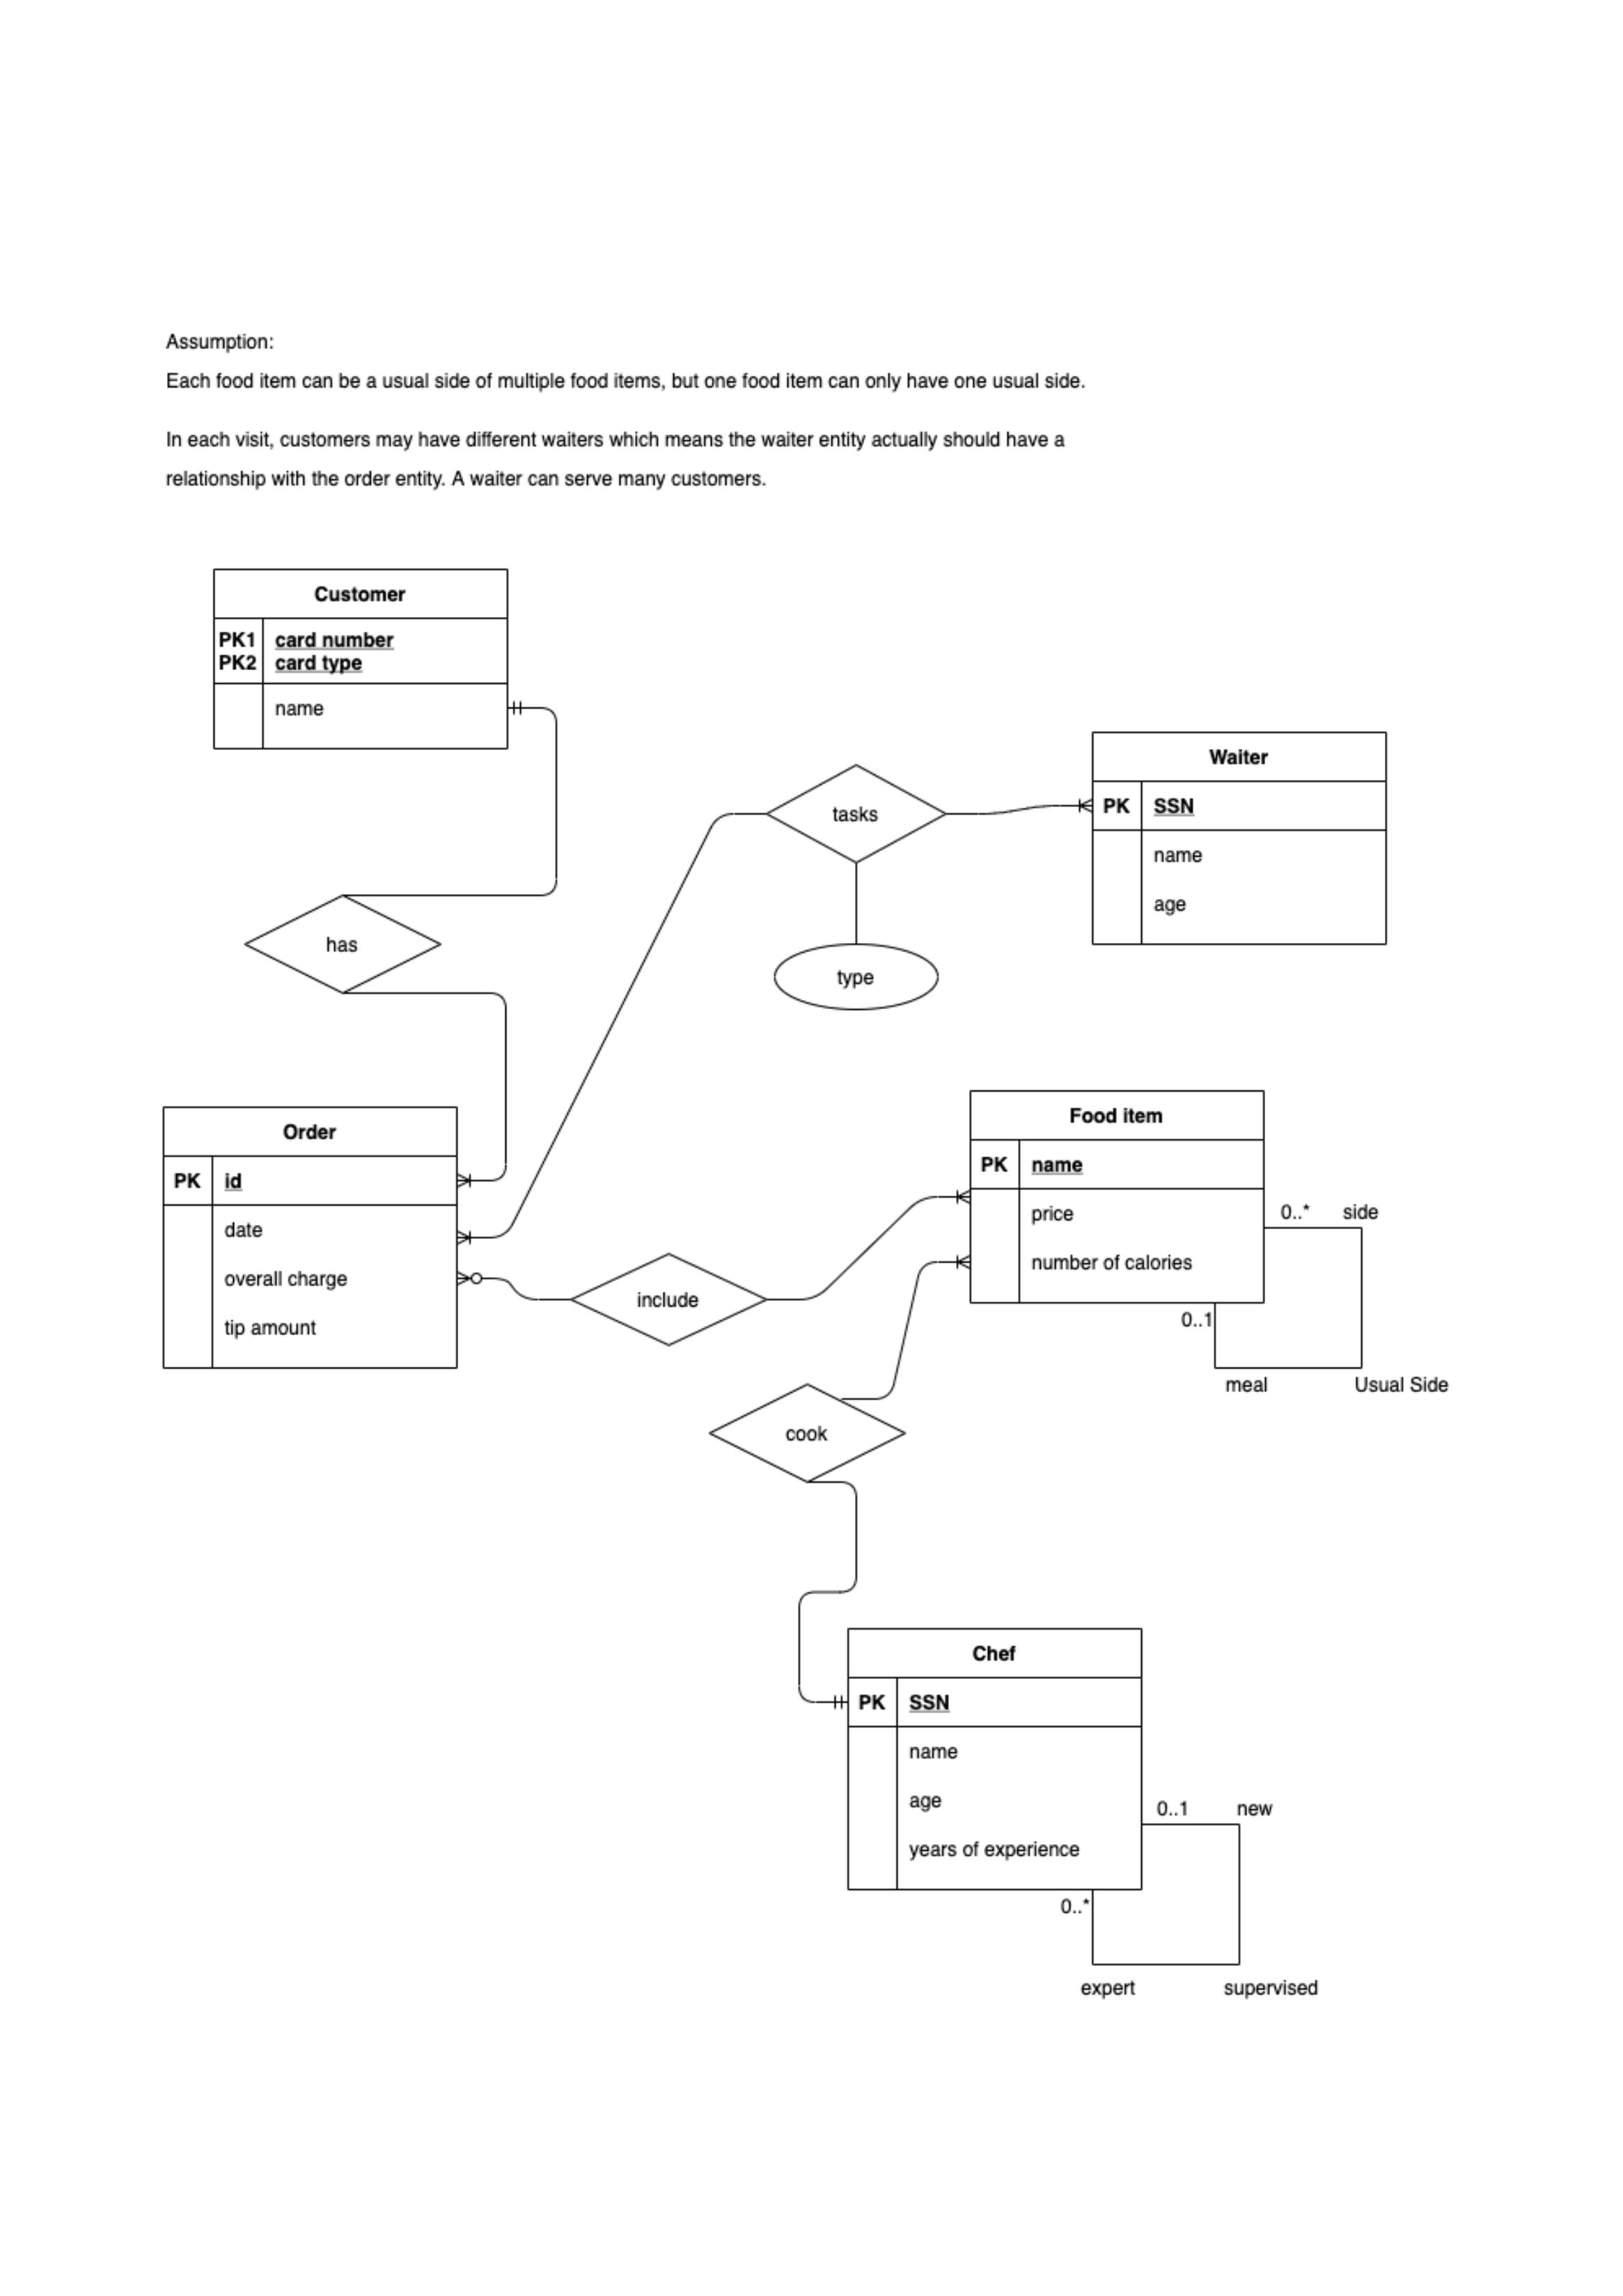Attribute: (773, 942, 941, 1012)
Entity: (847, 1627, 1143, 1892), (162, 1107, 458, 1370), (1091, 729, 1389, 947), (968, 1089, 1266, 1305), (213, 567, 509, 750)
Relationship: (708, 1383, 906, 1484), (244, 894, 444, 993), (569, 1254, 766, 1346), (768, 762, 947, 863)
